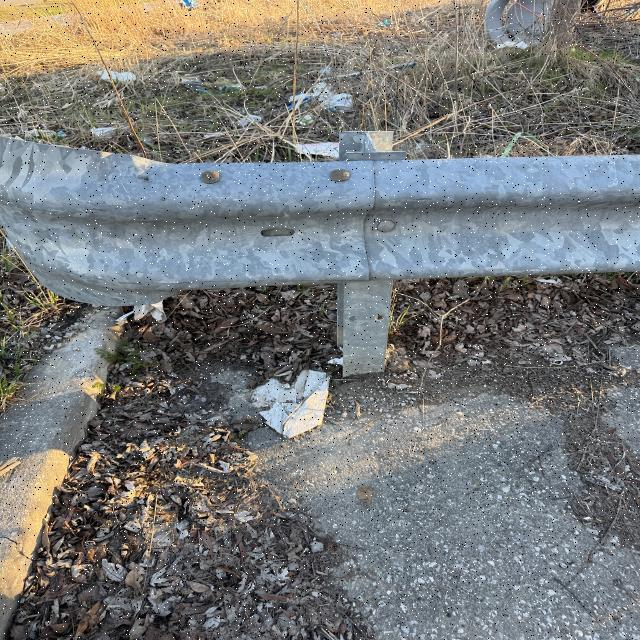Guard rail: (14, 148, 623, 292)
